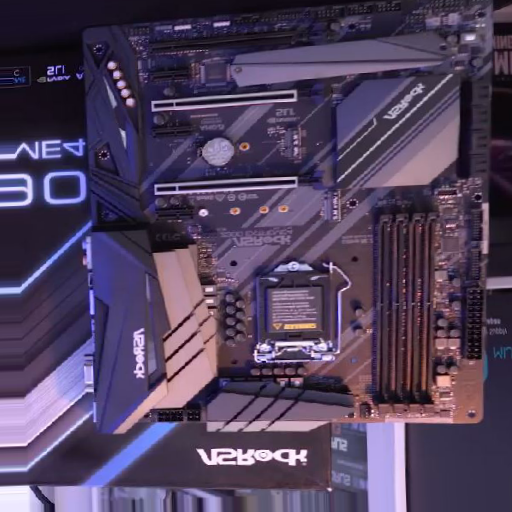CPU: (249, 260, 334, 360)
GPU: (149, 81, 326, 114), (152, 170, 326, 198)
MOTHERBOARD: (78, 6, 492, 435)
RAM: (374, 208, 440, 417)
SSD: (278, 126, 302, 164), (322, 187, 341, 225)
